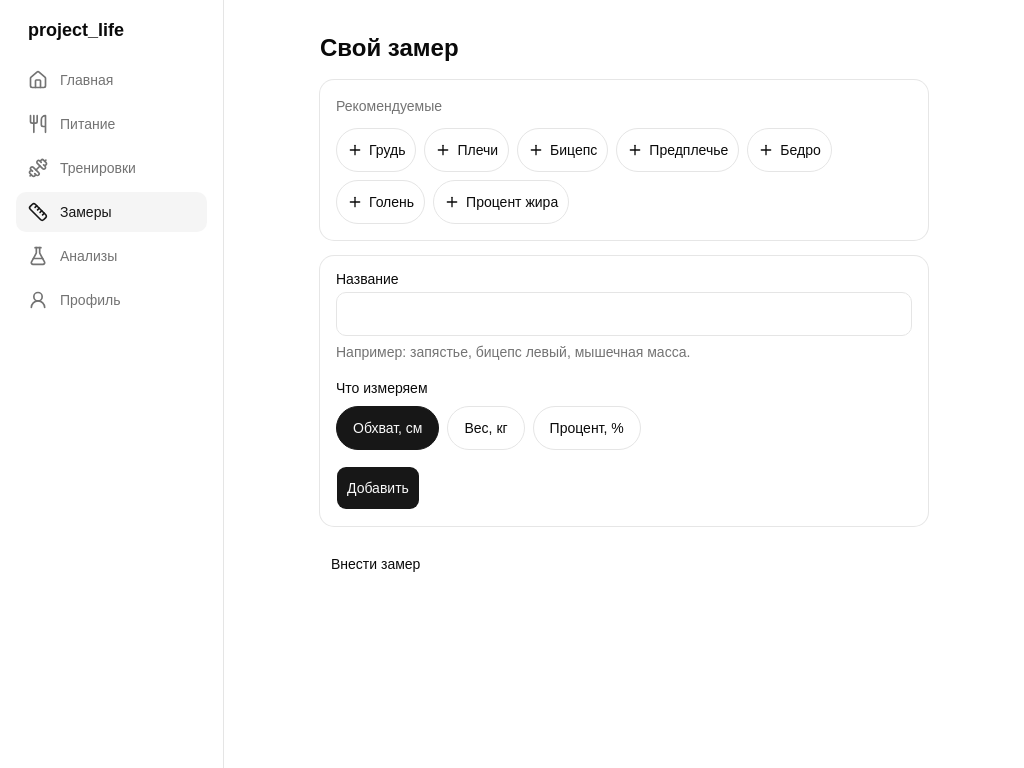
экран «+»: свой замер › название и величина уходят под ключом клиента, дальше — форма замера
The width and height of the screenshot is (1024, 768).
Type "  Мышечная масса " into the field labelled "Название". click: (624, 314)
box: [336,292,912,336]
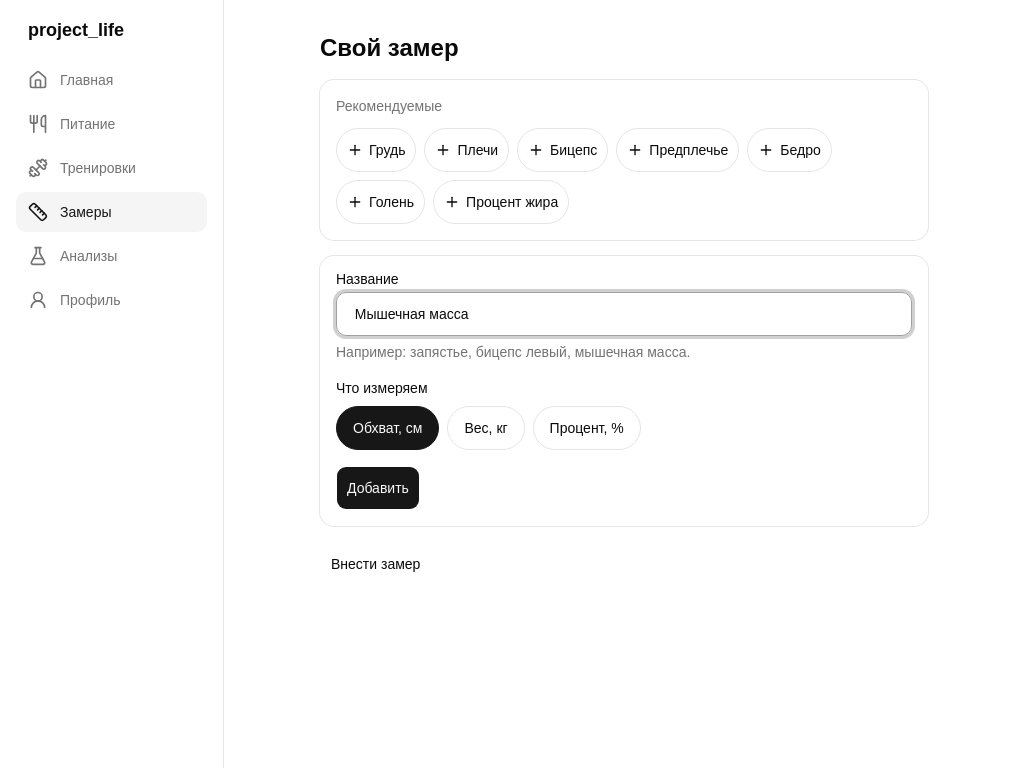
Click the radio button labelled "Вес, кг". click: (486, 428)
box: [448,406,525,450]
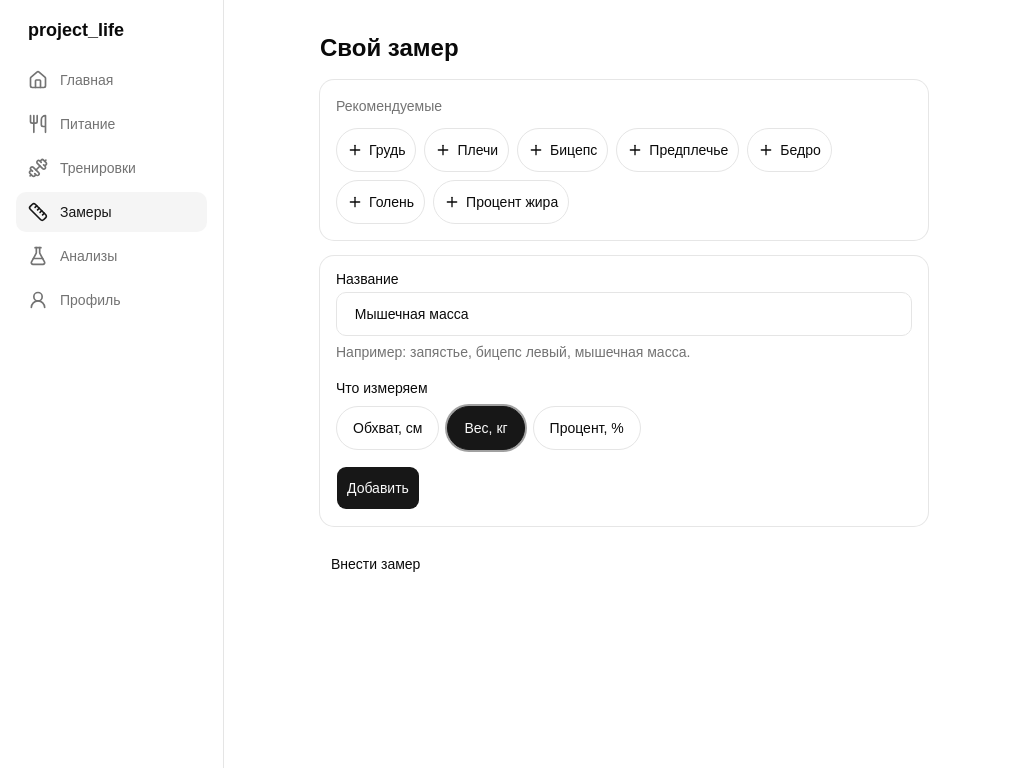
Click the button "Добавить". click: (378, 488)
box: [336,466,420,510]
(page scrolled)
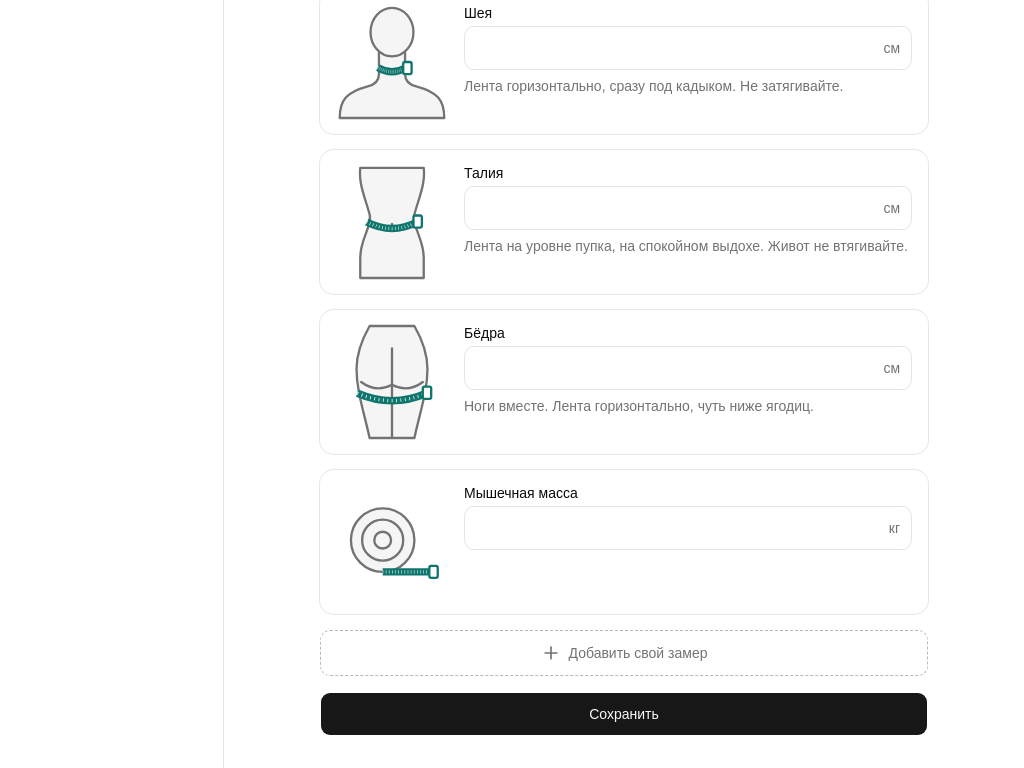
Expected: the field labelled "Мышечная масса" is shown, [464,506,912,550]
